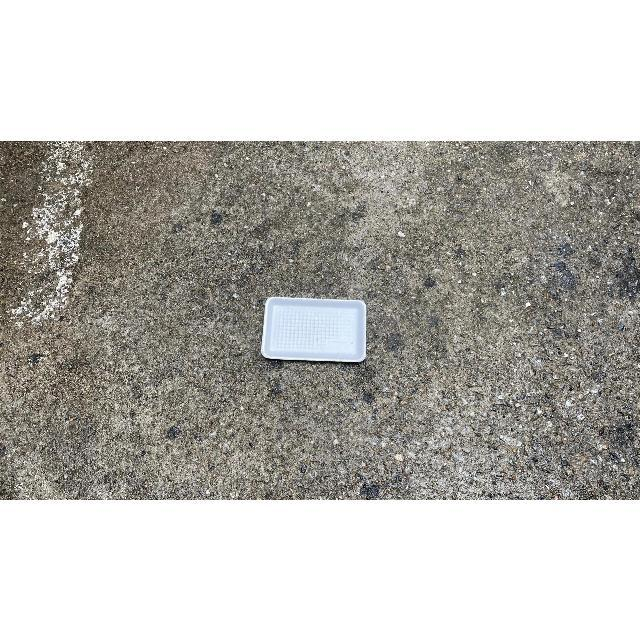Plastico descartable: (260, 298, 367, 366)
